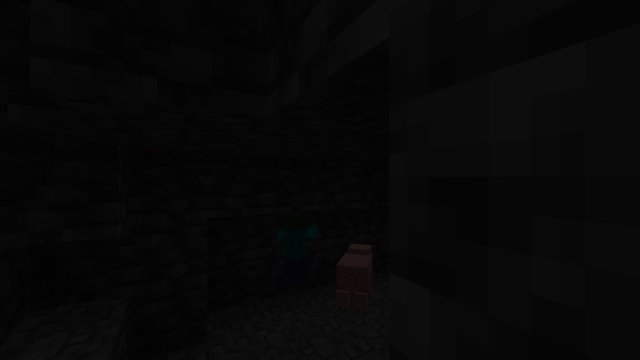cochons: (327, 250, 385, 313)
zombies: (282, 226, 311, 299)
